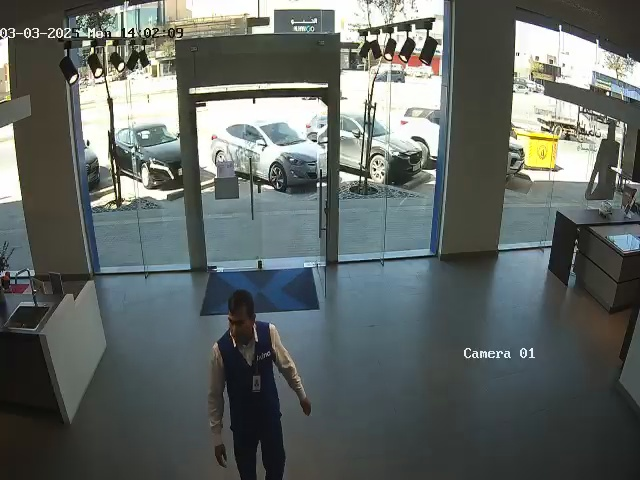employee: (207, 289, 312, 480)
